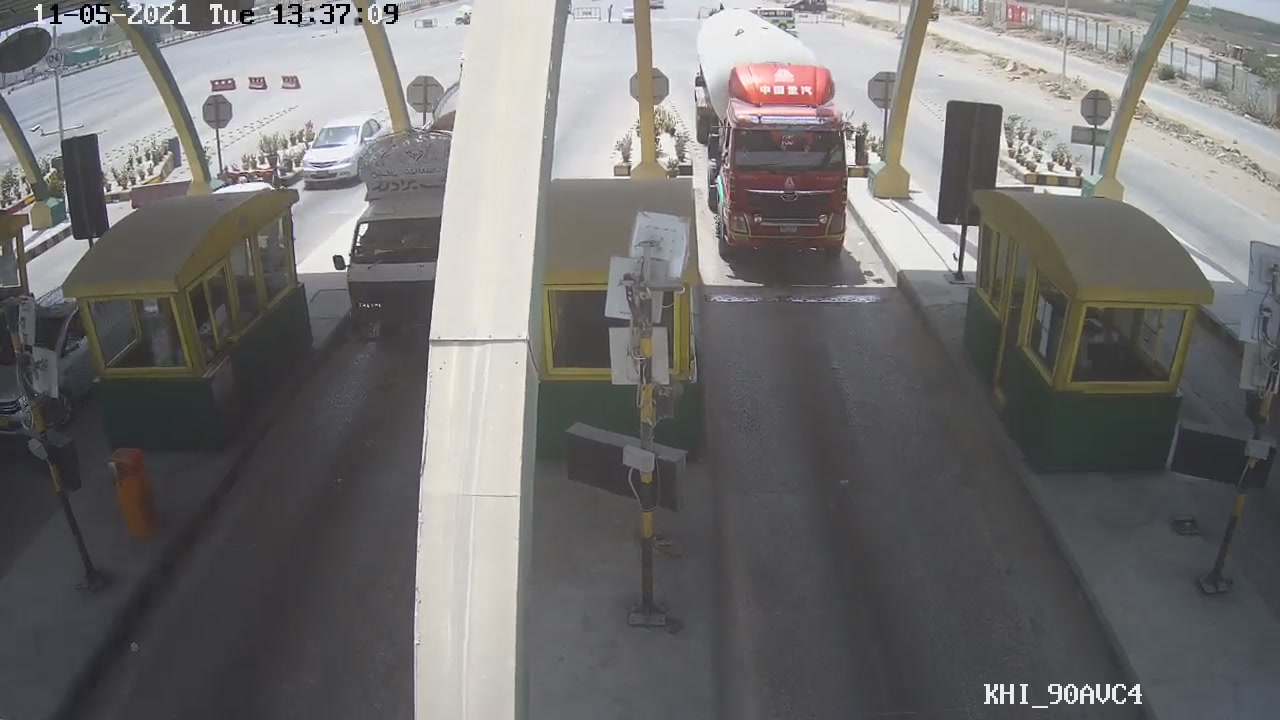F6: (688, 14, 862, 264)
